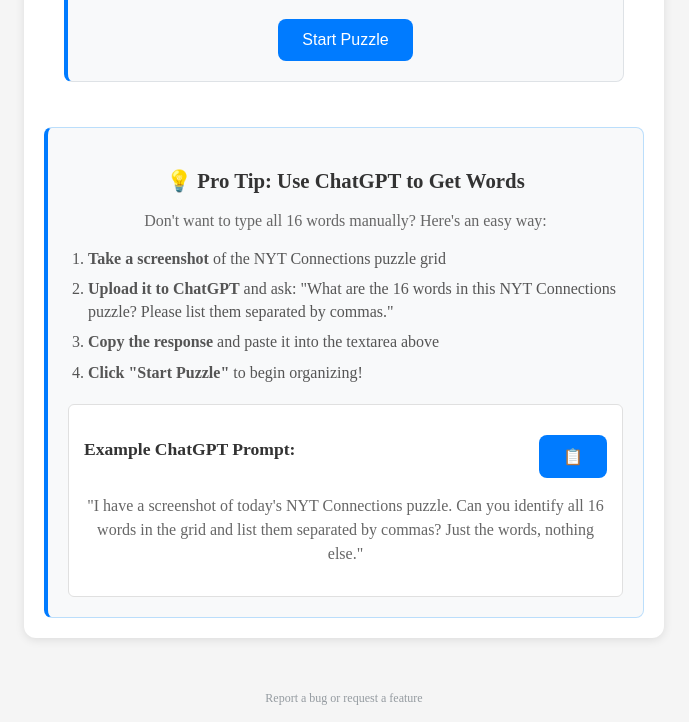
Test case: App Component › copy button shows success message
The image size is (689, 722).
(page scrolled)
Note: Click the copy button
Click the button titled "Copy to clipboard" at (573, 456), box [539, 435, 607, 478]
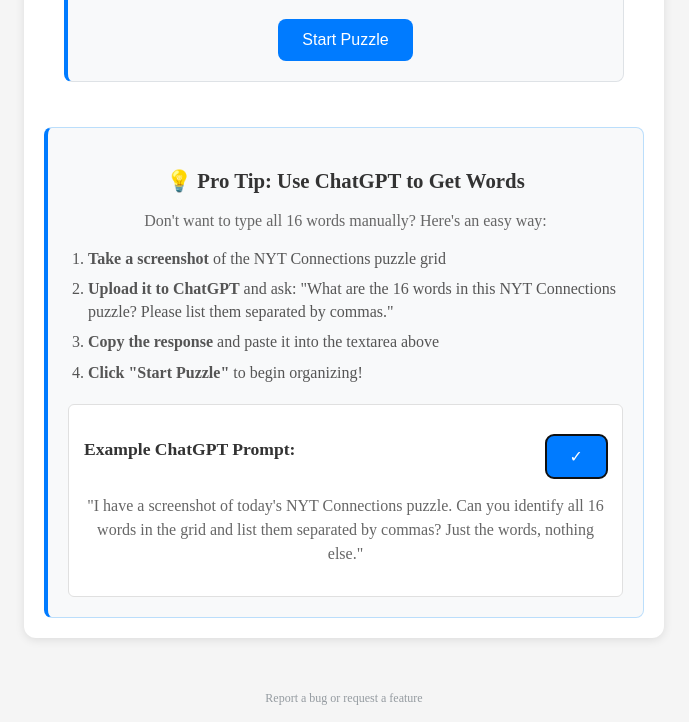
Expected: the button "✓" is shown, [546, 435, 607, 478]
